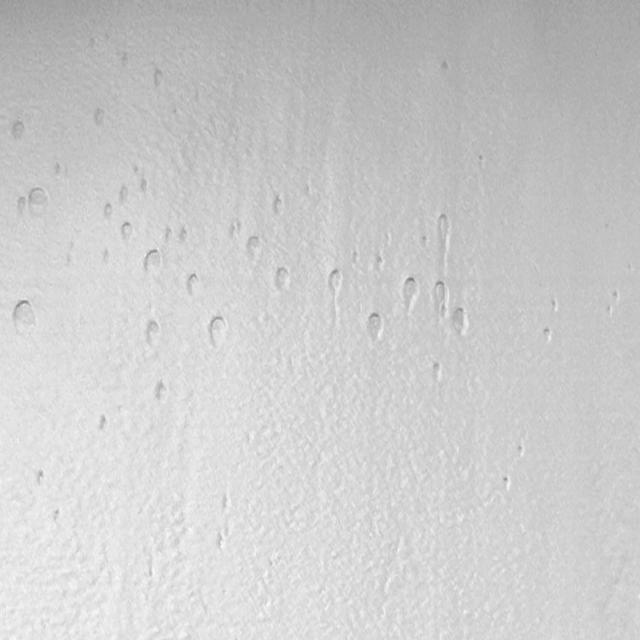pin holes: (8, 297, 38, 335), (206, 313, 230, 347), (28, 186, 52, 219), (433, 214, 455, 250), (362, 310, 384, 341), (400, 276, 420, 310), (324, 268, 344, 299), (142, 248, 164, 275), (452, 306, 472, 335), (273, 266, 294, 293), (7, 117, 28, 144), (182, 272, 202, 299), (431, 281, 448, 312), (151, 379, 171, 405), (144, 316, 163, 343), (270, 194, 289, 220), (33, 466, 52, 491), (117, 219, 135, 245), (244, 235, 262, 261), (90, 108, 110, 130), (94, 413, 113, 436), (214, 532, 231, 555), (432, 360, 446, 386), (152, 68, 168, 90), (49, 505, 65, 525), (14, 193, 26, 219), (541, 327, 556, 347), (119, 185, 131, 206), (162, 224, 175, 243), (53, 160, 66, 179), (516, 442, 528, 461), (102, 201, 114, 220), (501, 475, 514, 492), (439, 58, 452, 75), (99, 249, 112, 266), (180, 227, 192, 245), (549, 297, 561, 315), (376, 254, 388, 272), (120, 53, 133, 69), (230, 223, 243, 239), (138, 179, 150, 196), (132, 163, 144, 178), (612, 289, 622, 306), (420, 233, 431, 248), (606, 304, 616, 320), (476, 154, 486, 168)
